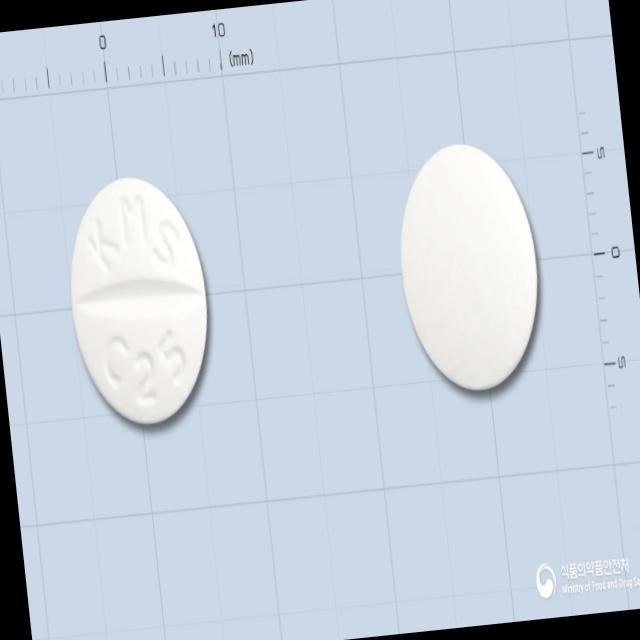Cyspec: (58, 168, 220, 434)
